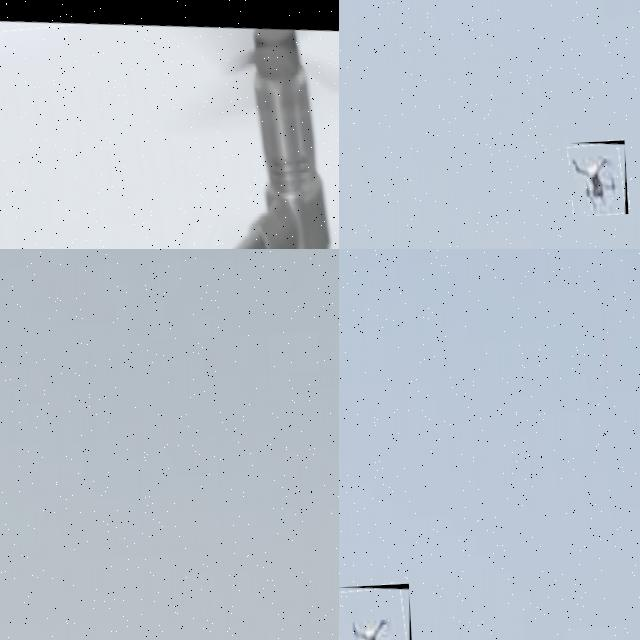0: (569, 140, 629, 217), (339, 583, 414, 640)
drone: (0, 0, 339, 249)
